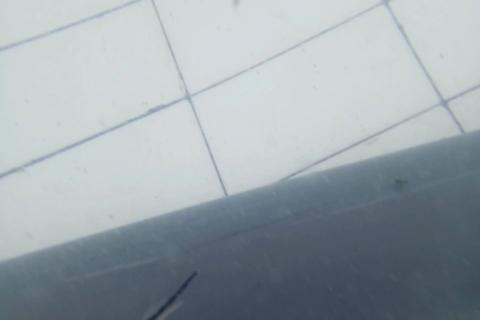keretakan: (146, 269, 200, 319)
